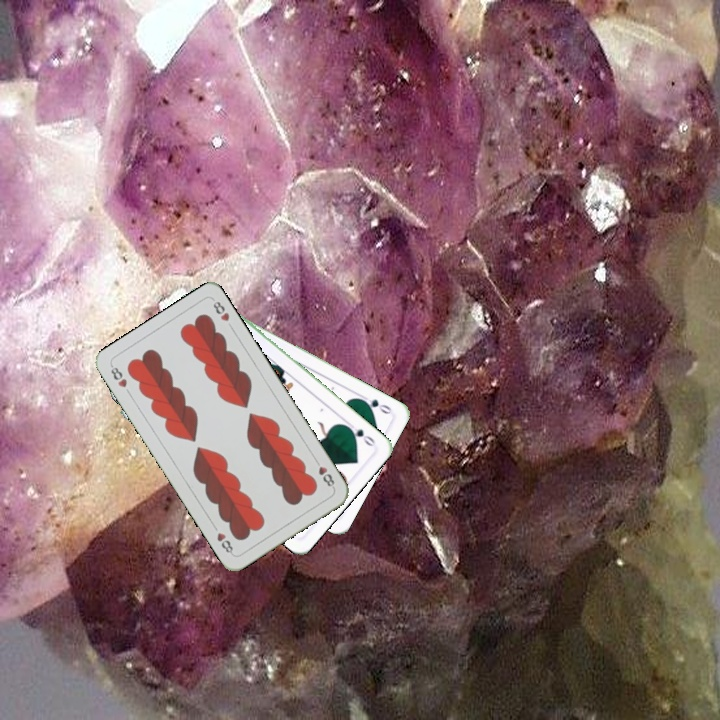GO: (342, 421, 378, 450), (356, 391, 394, 417)
H8: (310, 455, 337, 491), (107, 362, 130, 390)
